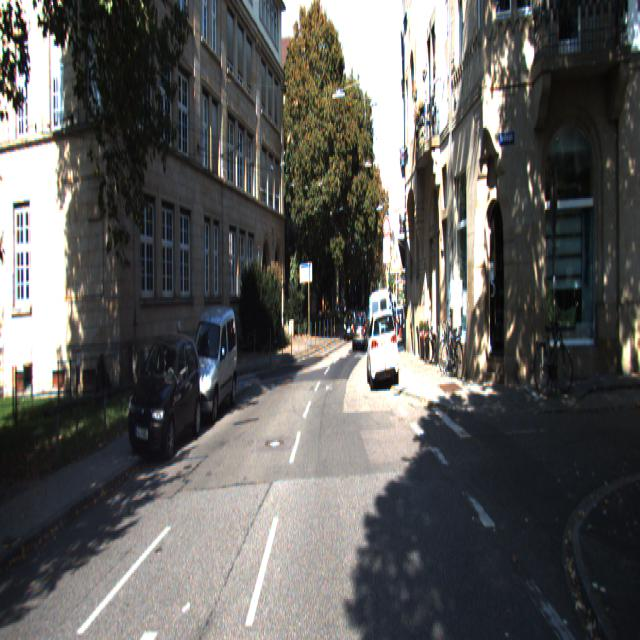Car: (123, 330, 203, 470), (181, 305, 238, 431), (366, 307, 399, 394), (368, 287, 389, 379), (352, 311, 368, 353), (343, 310, 358, 342)
